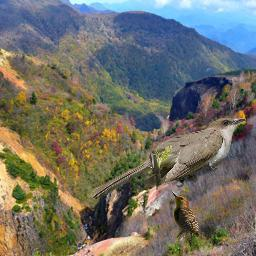Cuckoo: (89, 116, 245, 199)
Woodpecker: (171, 191, 199, 245)
